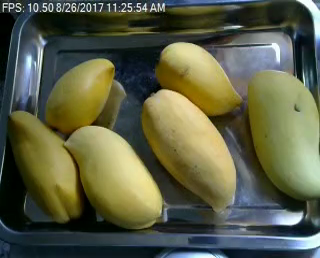Mango: (142, 88, 237, 209), (65, 124, 164, 230), (248, 69, 320, 198), (6, 109, 86, 222), (157, 43, 242, 115), (45, 57, 116, 134)
